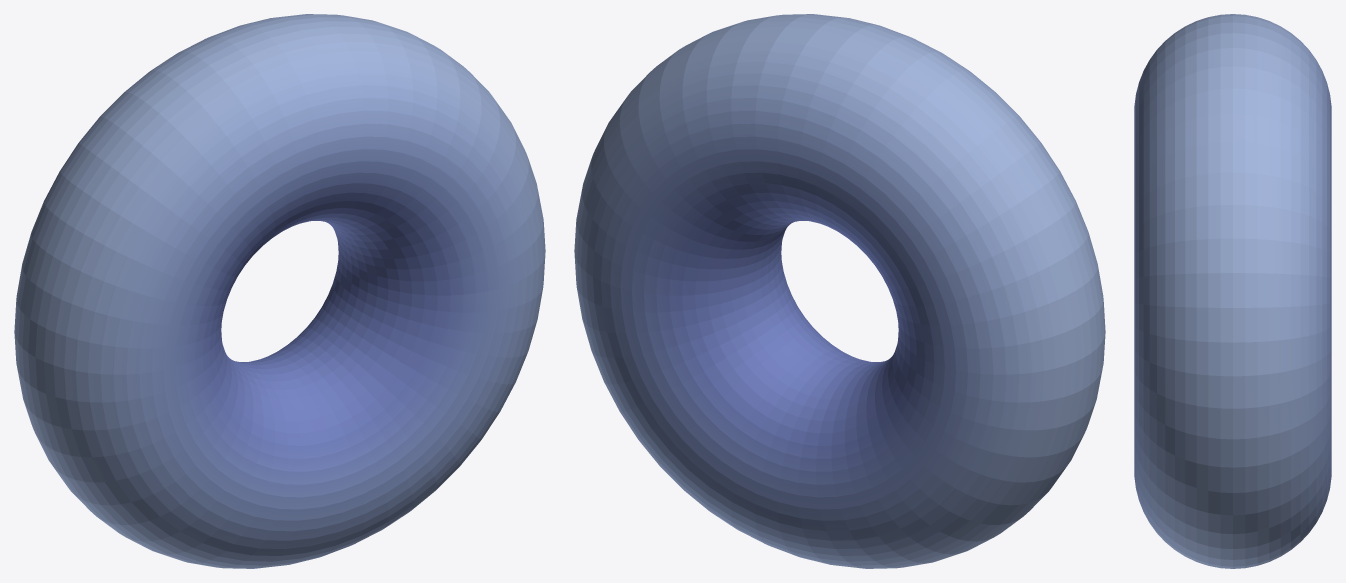
3 renders of one model, left to right at view 1: azimuth 30°, elevation 25°; view 2: azimuth 150°, elevation 25°; view 3: azimuth 270°, elevation 25°, orthographic. The views are drawn at different scales.
Visible parts, largest first — view 1: world; view 2: world; view 3: world.
Boxes of the visible parts, bbox=[...] form: world: bbox=[14, 14, 545, 568]; world: bbox=[574, 14, 1105, 568]; world: bbox=[1134, 14, 1331, 568].
Bounding box in the file's own units: 17.6 × 17.57 × 6.25.
